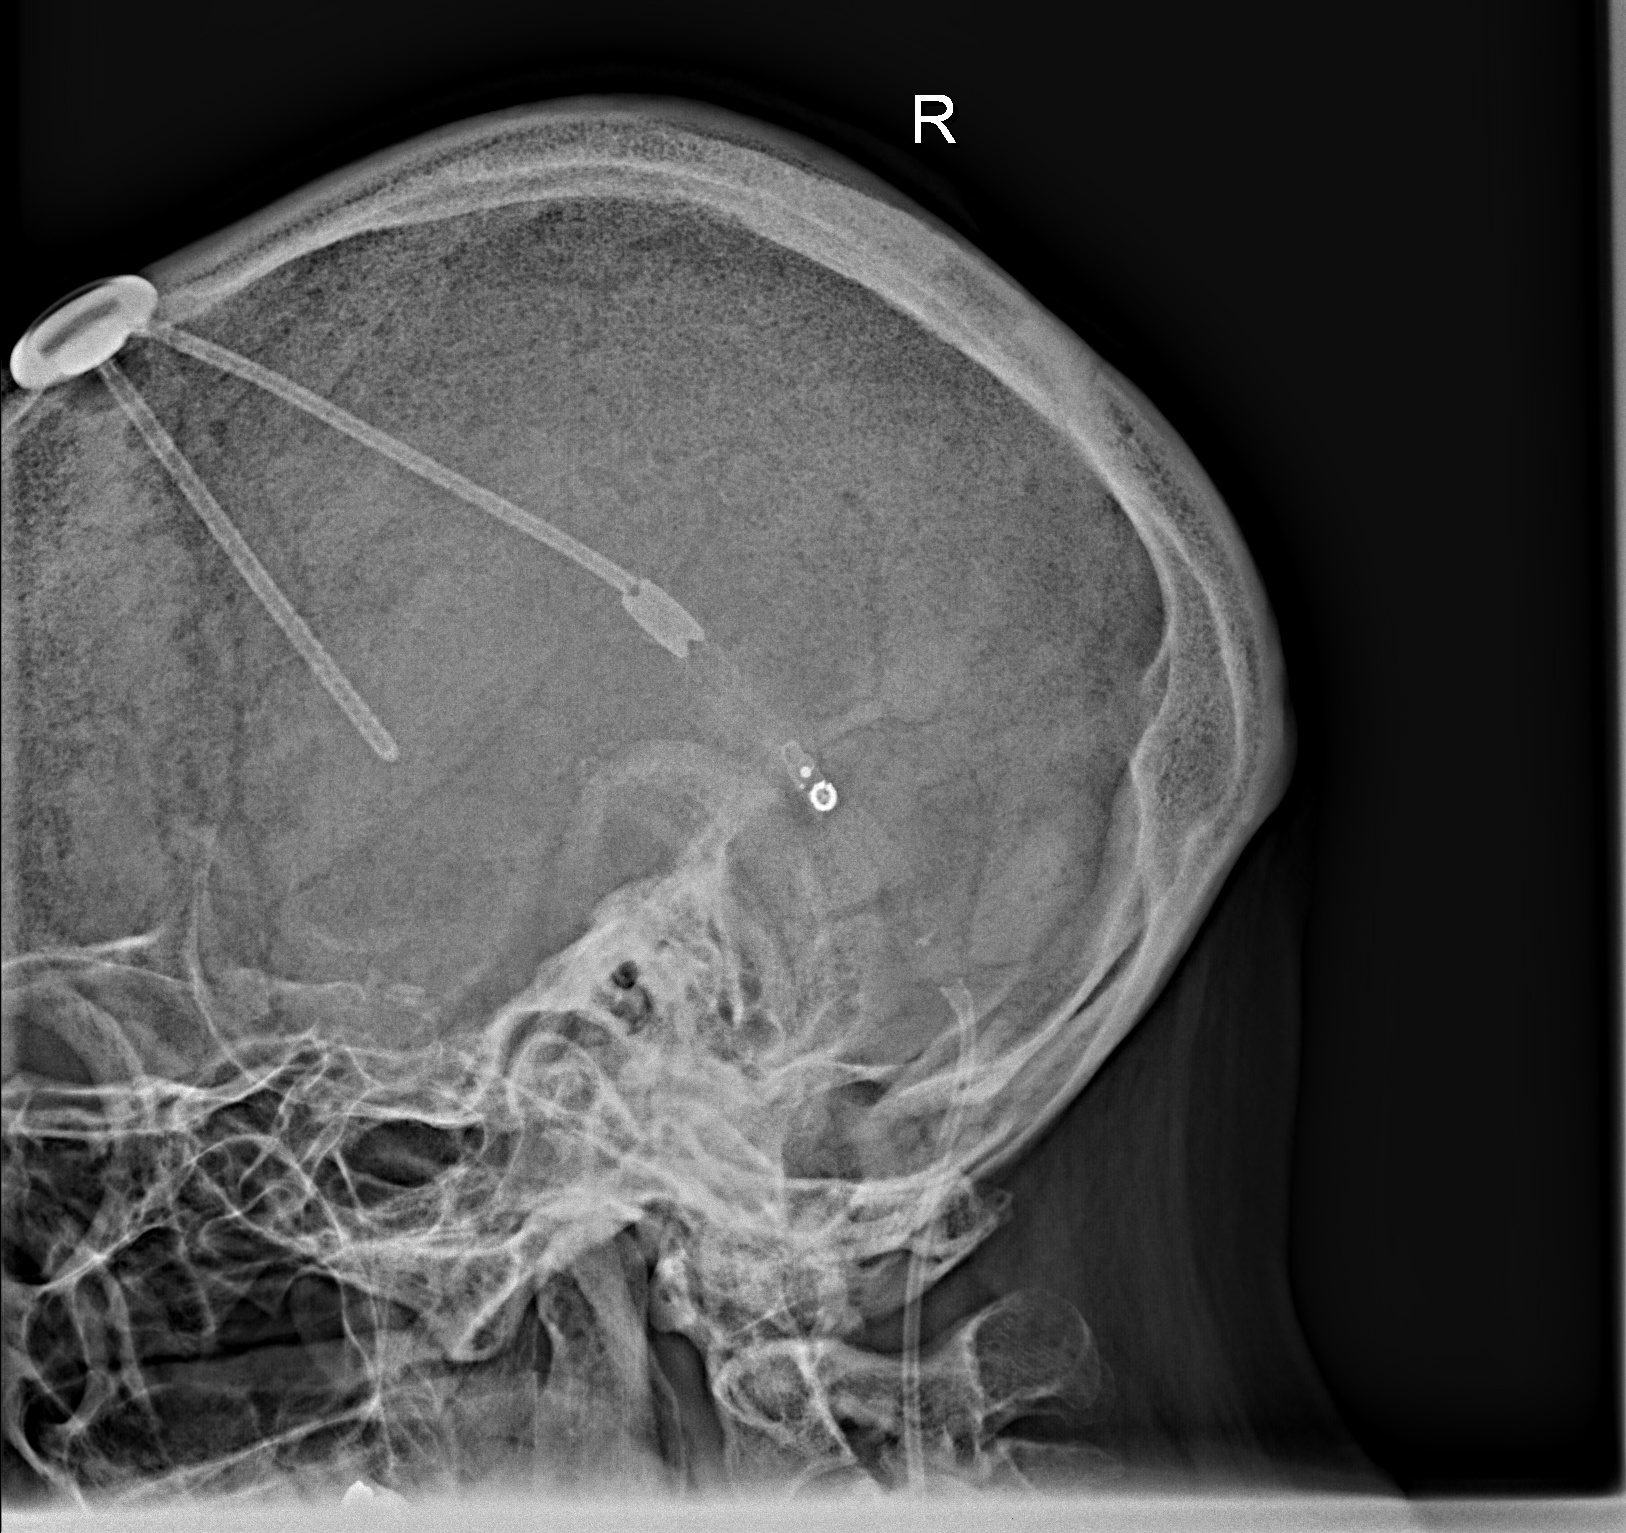Codman Hakim: (792, 751, 847, 830)
